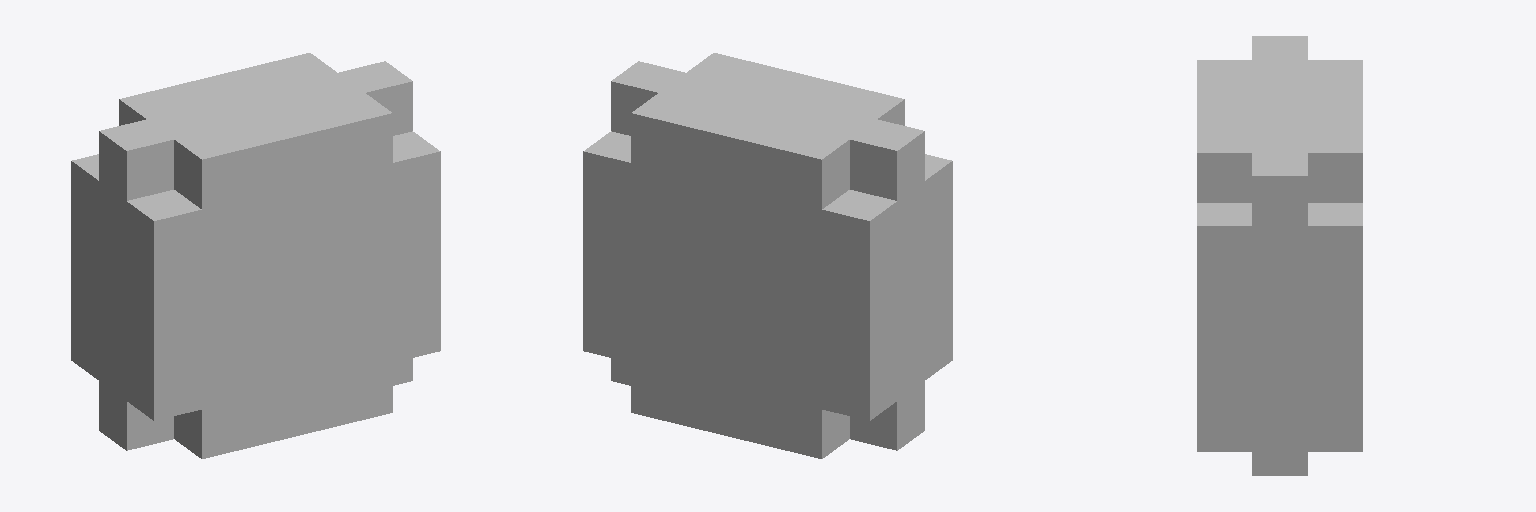
File: cbCushion2_Redux.obj
3 views of the same model, side by side, from view 1: azimuth 30°, elevation 25°; view 2: azimuth 150°, elevation 25°; view 3: azimuth 270°, elevation 25° (orthographic).
Visible parts, largest first — view 1: cbCushion_2; view 2: cbCushion_2; view 3: cbCushion_2.
Boxes of the visible parts, box(x1,y1,x2,y2) form: cbCushion_2: box(71, 53, 440, 458); cbCushion_2: box(583, 53, 952, 458); cbCushion_2: box(1197, 36, 1362, 475).
Bounding box in the file's own units: 0.6 × 0.6 × 0.3.